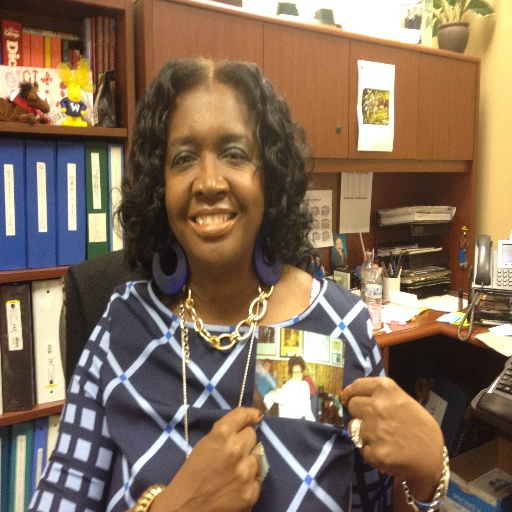hand: (155, 404, 264, 511), (335, 369, 447, 460)
